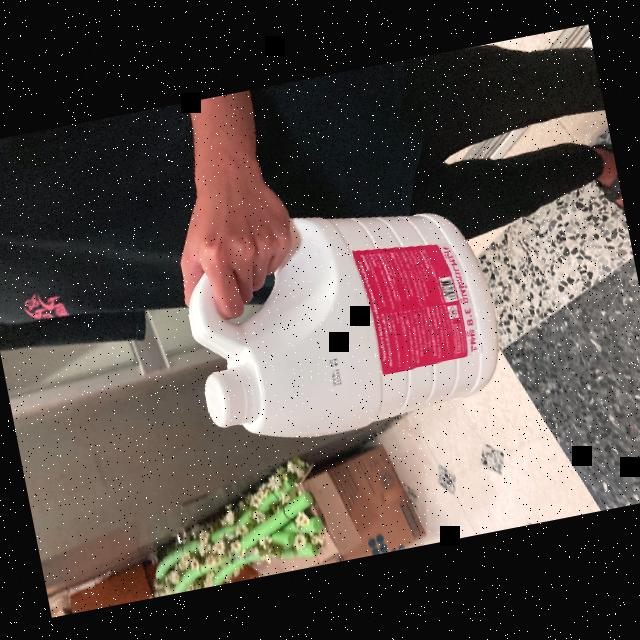chemical_plastic_gallon: (169, 186, 512, 457)
